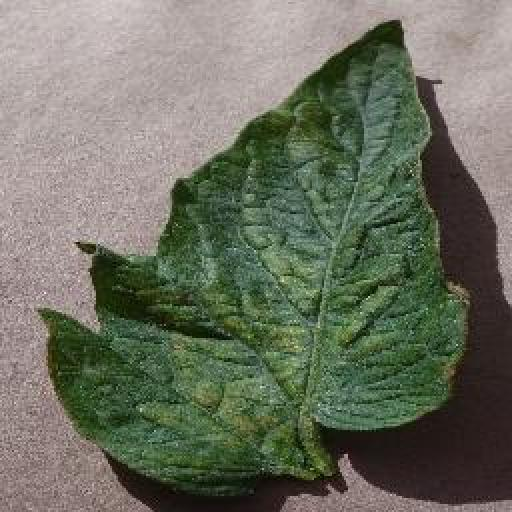disease_tomato: (36, 17, 471, 500)
